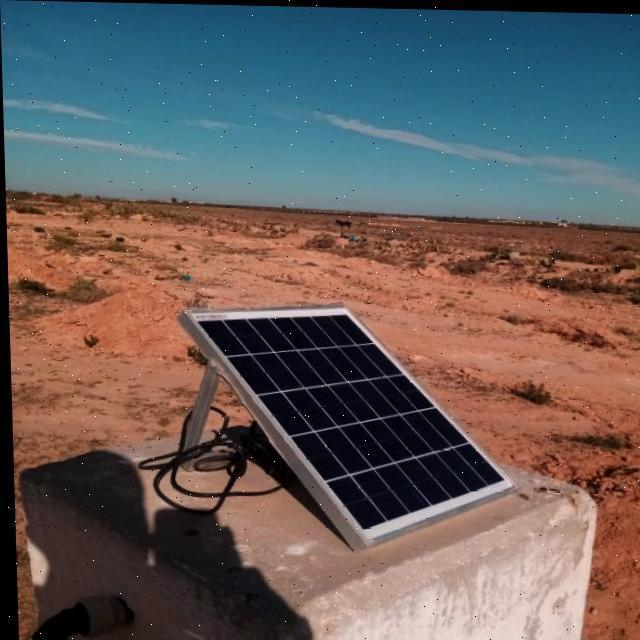Normal Solar Panel: (180, 300, 518, 548)
